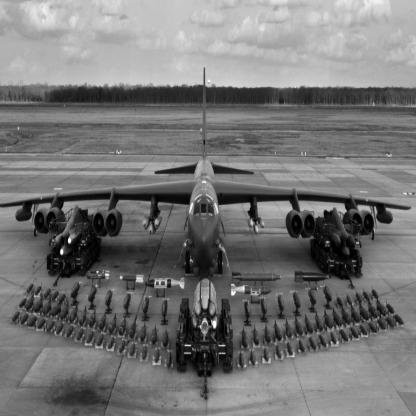B52: (2, 67, 413, 277)
